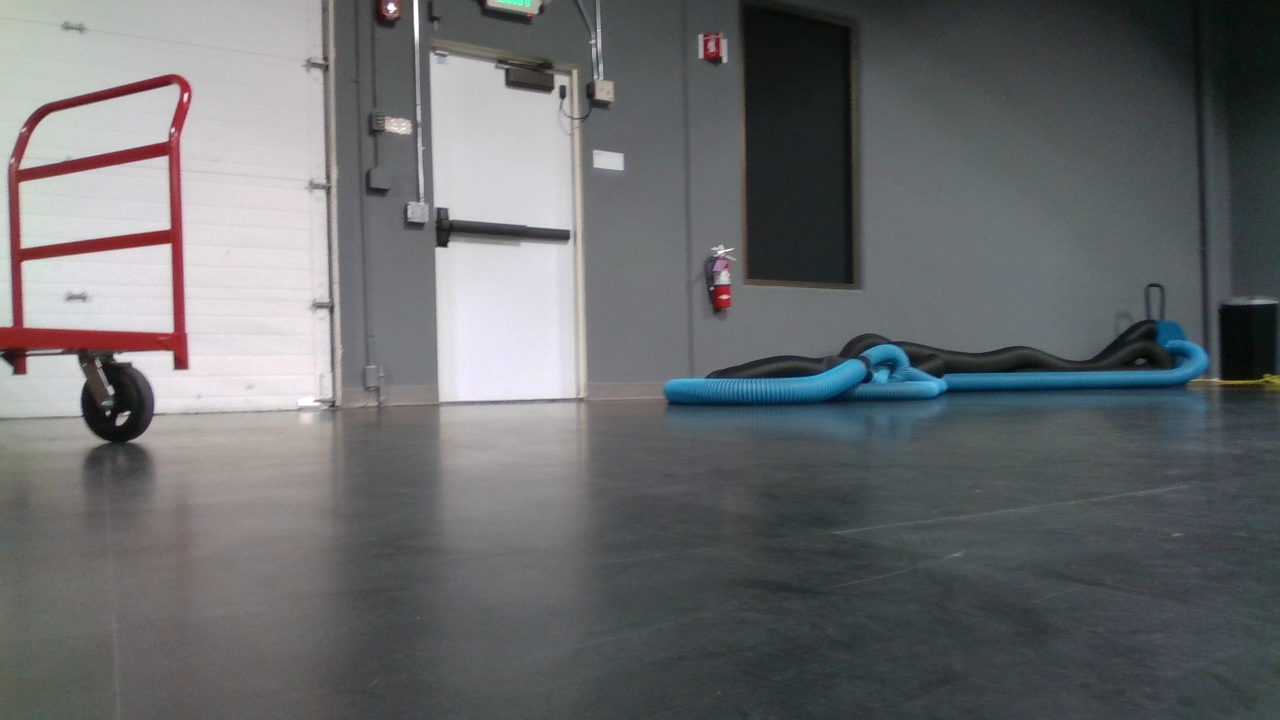Dolly: (0, 73, 192, 443)
Wheel: (75, 352, 156, 440)
